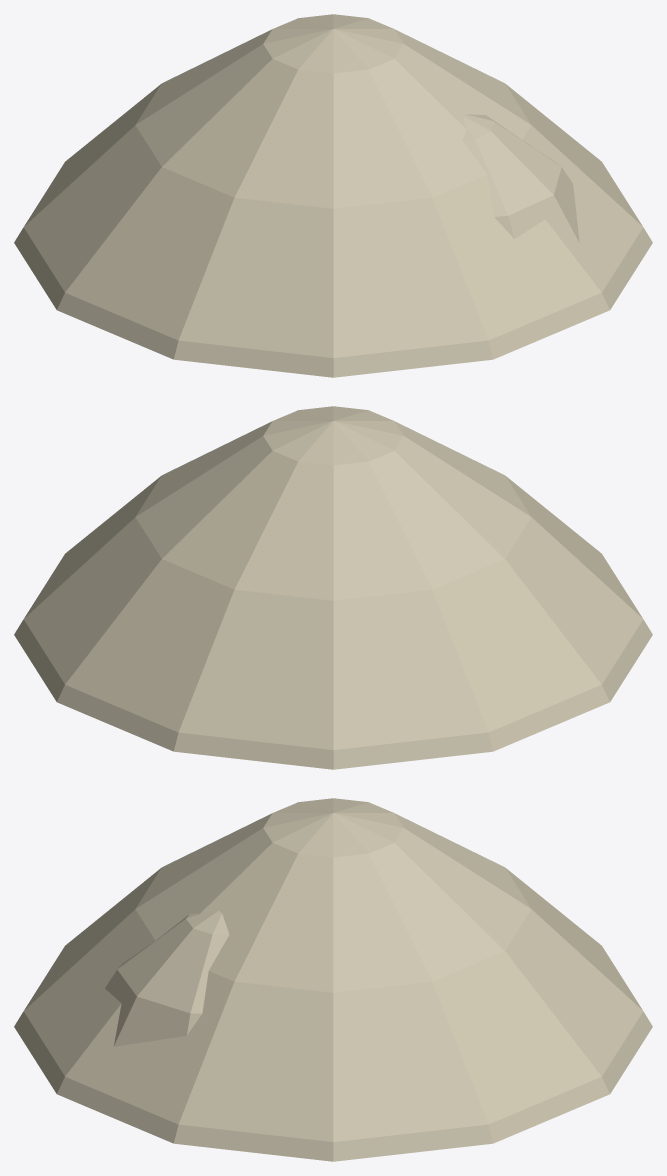
Rendered from pile_lime_b.glb.
3 renders of one model, top to bottom at view 1: azimuth 30°, elevation 25°; view 2: azimuth 150°, elevation 25°; view 3: azimuth 270°, elevation 25°, orthographic.
Parts seen in each view (by area): view 1: pile_lime_b; view 2: pile_lime_b; view 3: pile_lime_b.
Boxes of the visible parts, x1,y1,x2,y2 form: pile_lime_b: [14, 14, 652, 377]; pile_lime_b: [14, 406, 652, 769]; pile_lime_b: [14, 798, 652, 1161].
Bounding box in the file's own units: 13 × 4.8 × 13.
